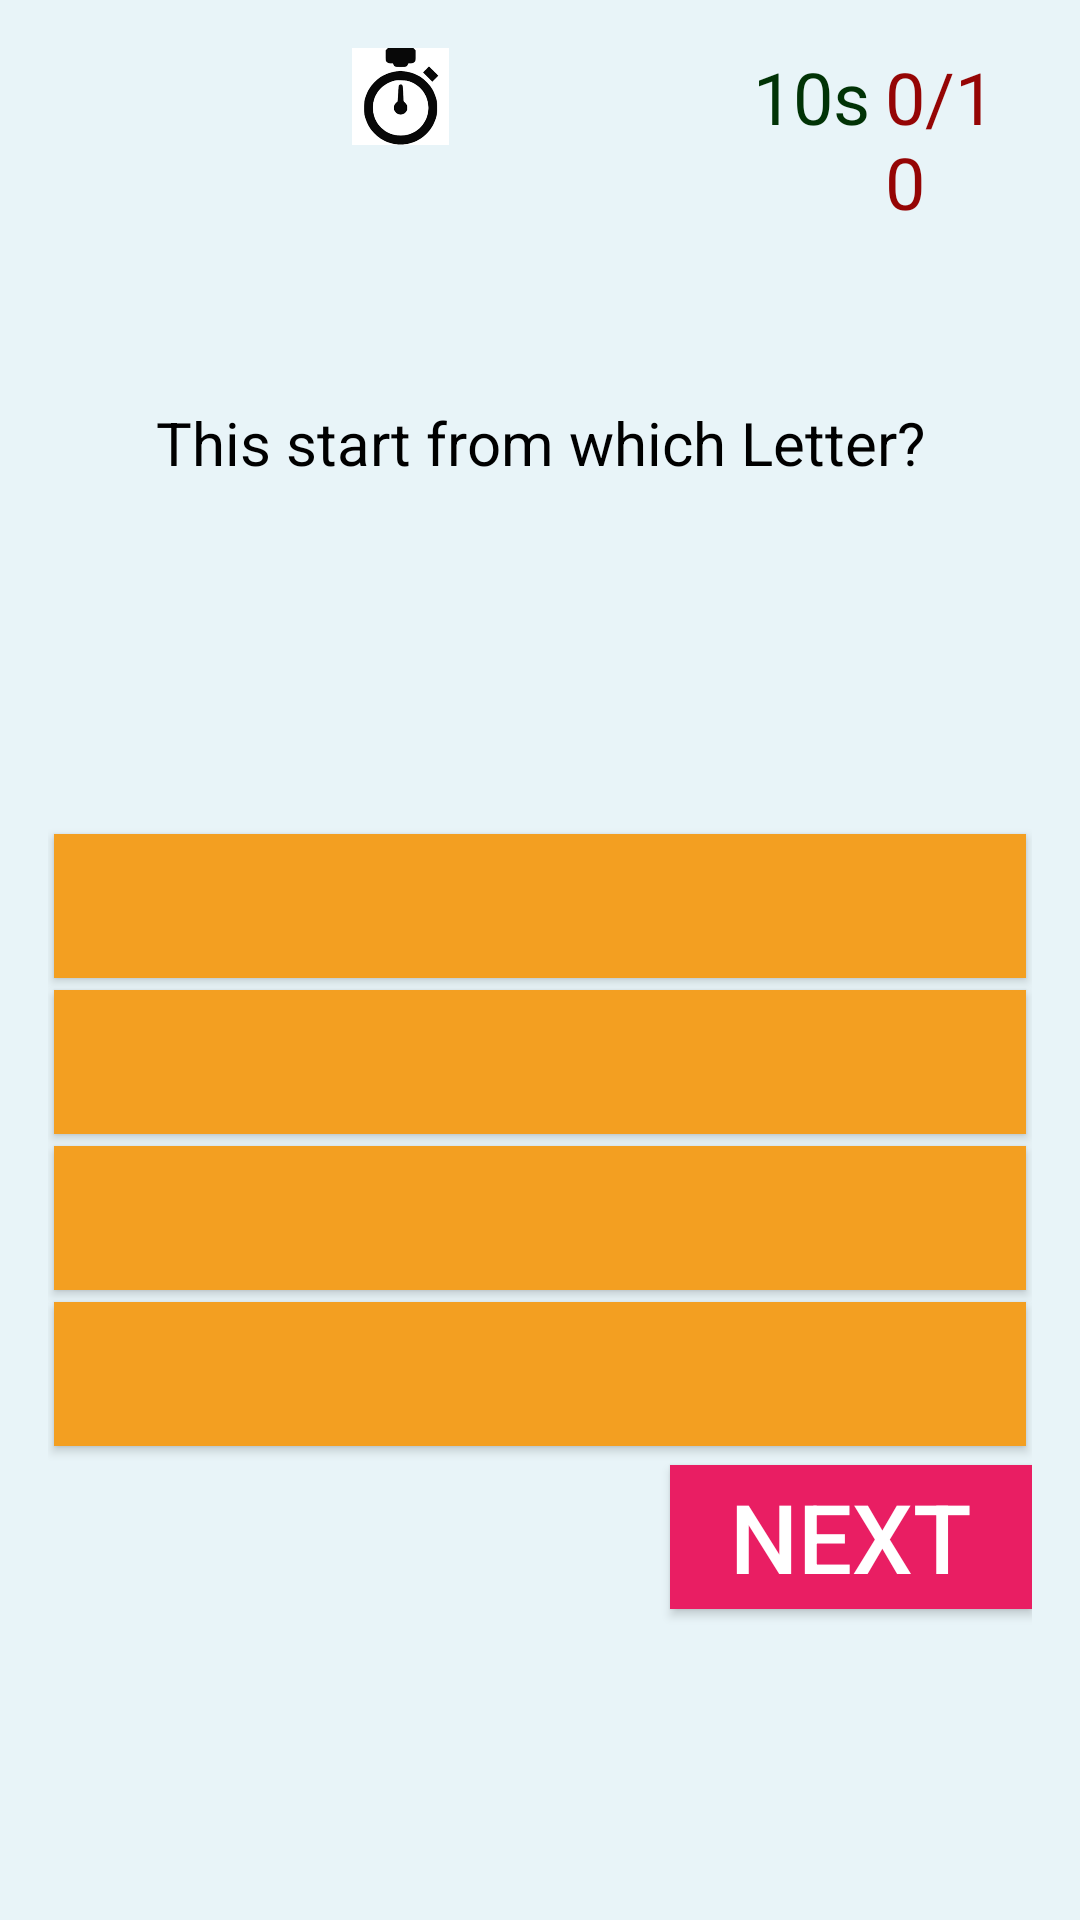

Named icons in this screenshot (1080 × 1920) and their centers, [x,y]:
stopwatch: [400,96]
